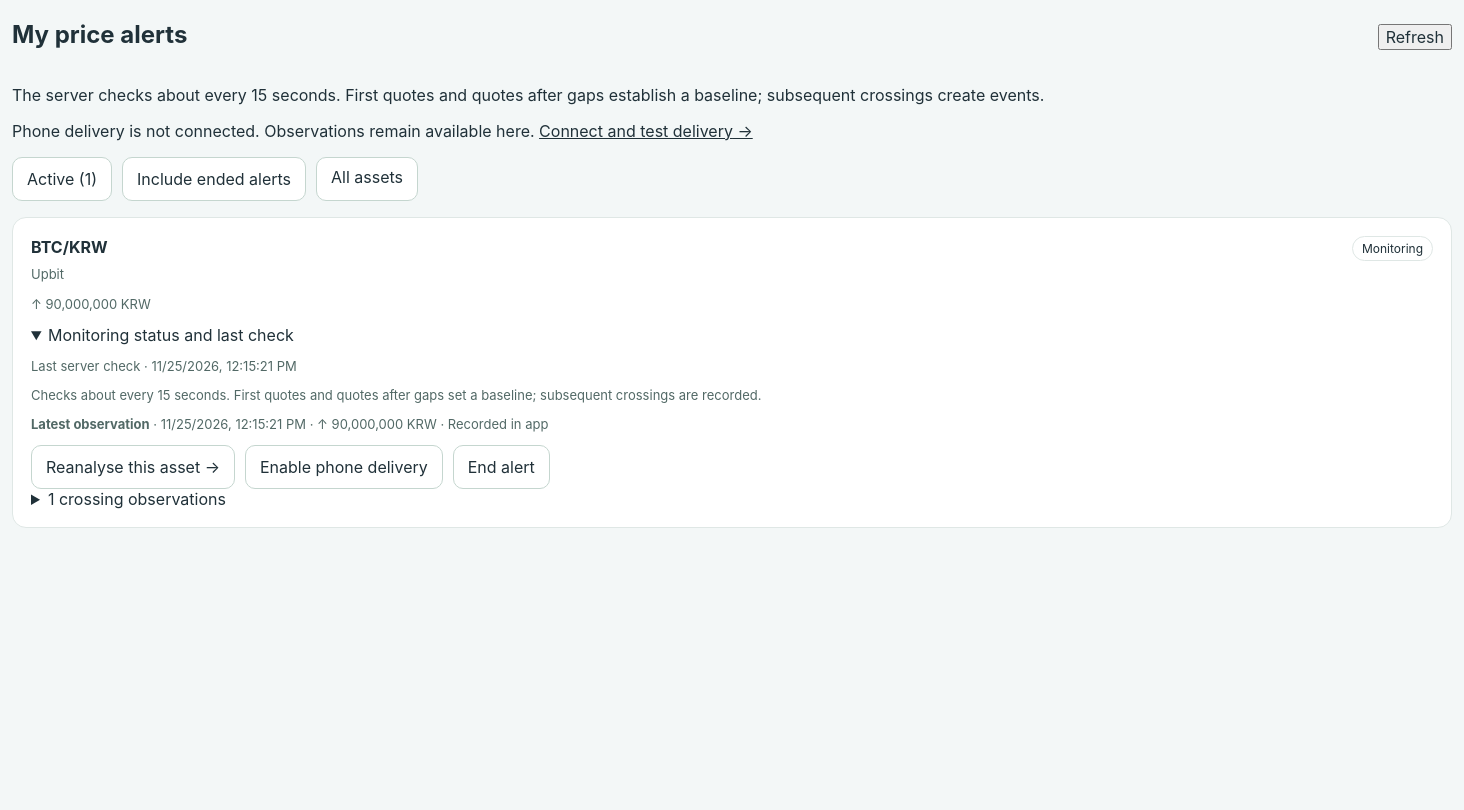
Test: keeps exchange and quote identity, and preserves observations after ending an alert
The width and height of the screenshot is (1464, 810).
Expected: the heading "BTC/KRW" is shown, [31,237,108,257]
Expected: the button "Enable phone delivery" is disabled, [245,445,443,489]
Click the button "End alert" at (501, 467), box [453,445,550,489]
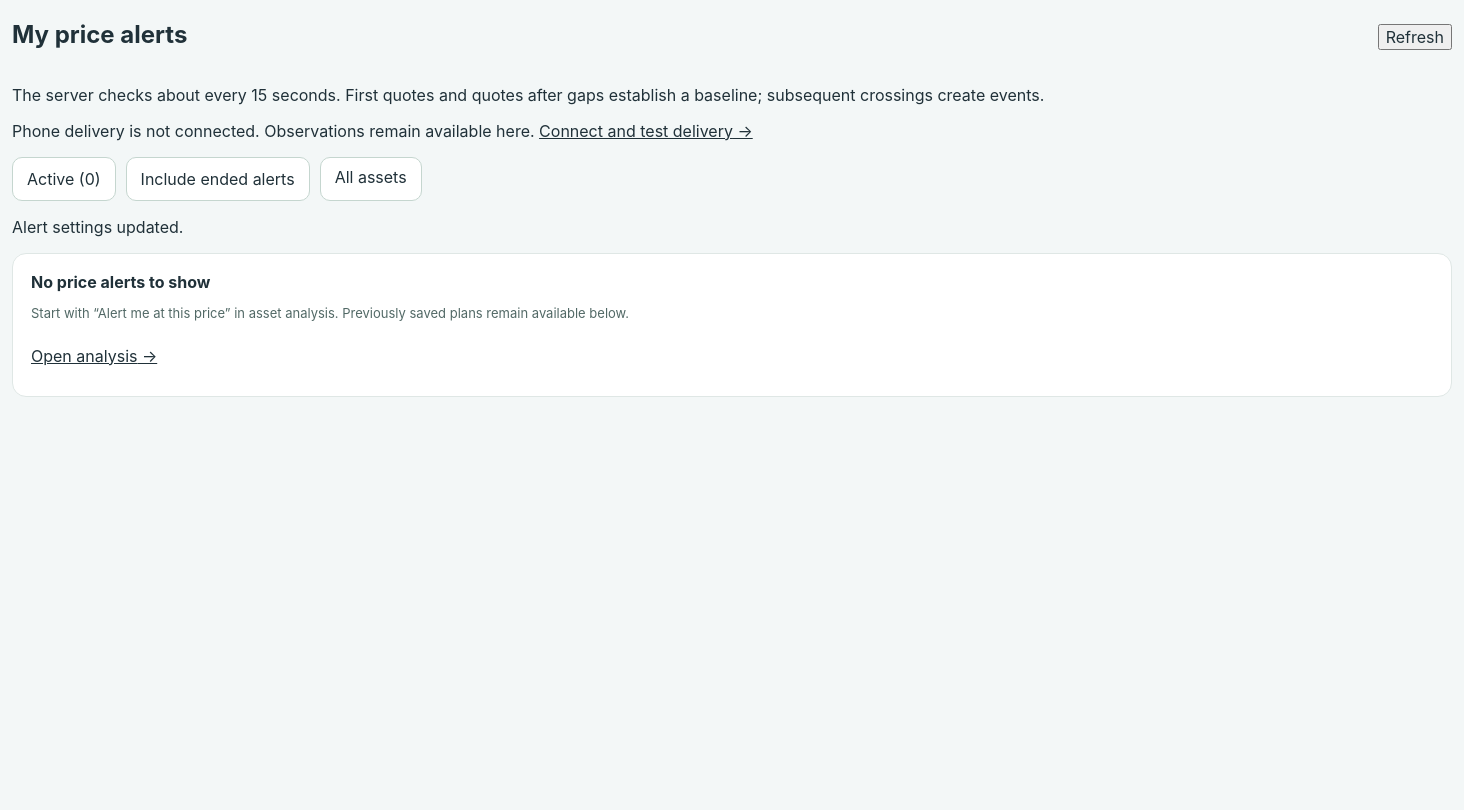
Expected: the heading "No price alerts to show" is shown, [31,272,210,292]
Click the button "Include ended alerts" at (218, 179), box [126,157,310,201]
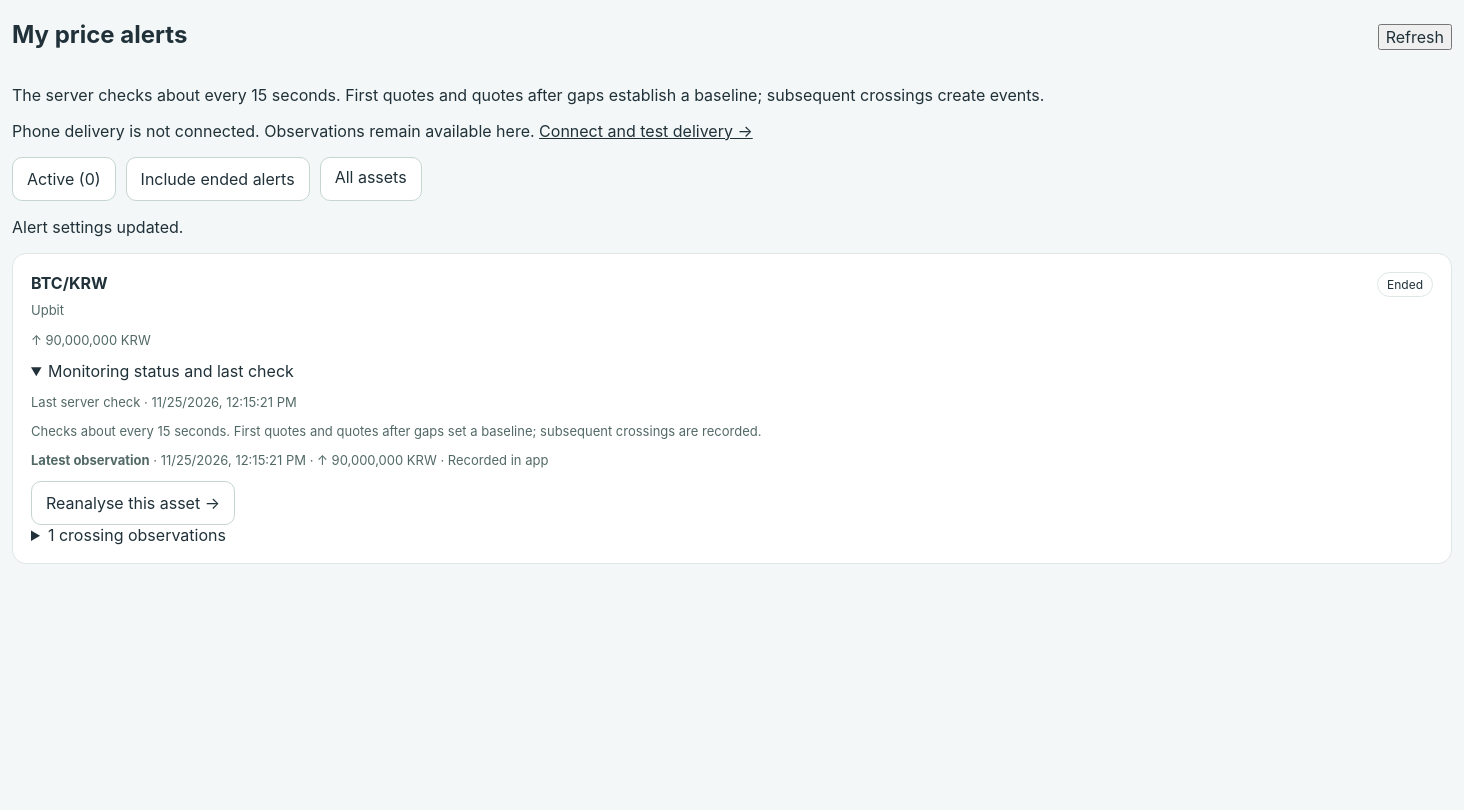
Expected: the text "Ended" is shown, [1377,272,1433,297]
Expected: the heading "1 crossing observations" is shown, [48,525,226,545]
